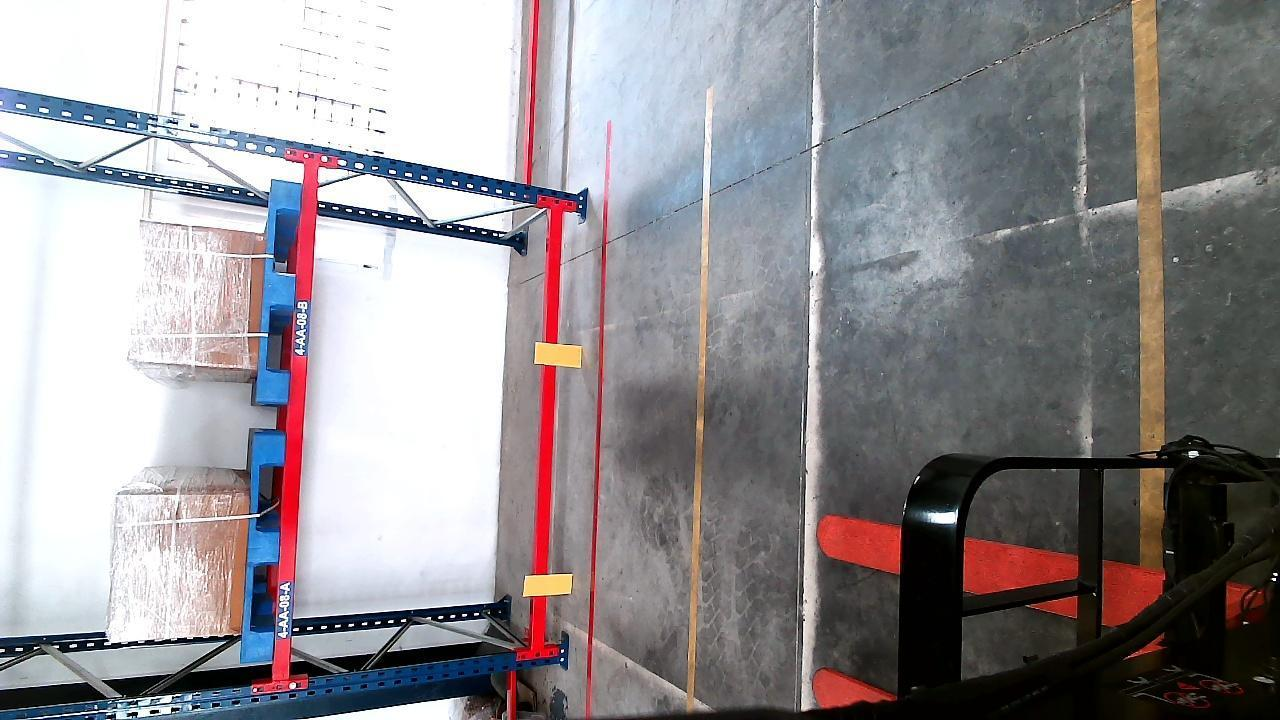h_rack: (270, 164, 318, 687), (530, 216, 559, 641)
orange_strip: (527, 570, 577, 597), (537, 343, 584, 366)
red_line: (585, 114, 614, 720)
small_pallet: (258, 182, 301, 410), (244, 438, 285, 656)
yellow_line: (684, 84, 718, 710)
